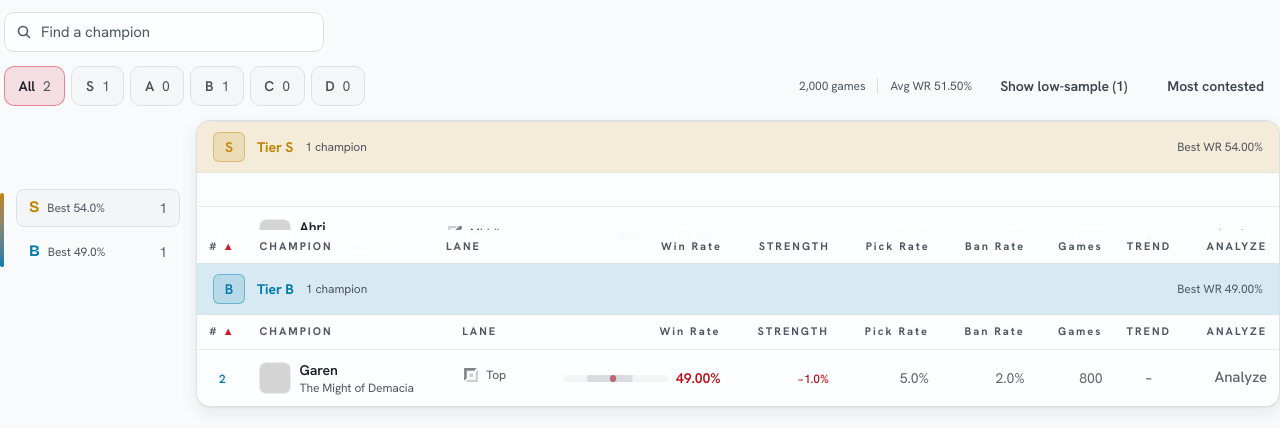
Scenario: TierListTable › filters by champion and renders a useful empty state
Expected: the text "Ahri" is shown, [300,218,325,236]
Expected: the text "Garen" is shown, [300,361,338,379]
Type "Nocturne" into the search field labelled "Find a champion".
click(164, 32); type("Nocturne")  # box [4,12,324,52]
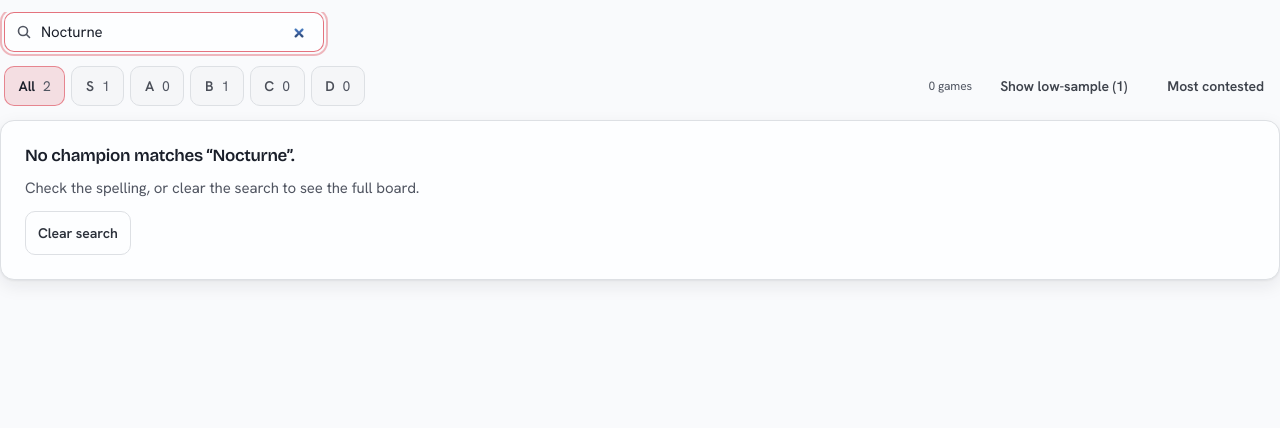
Now the text "No champion matches “Nocturne”." is shown, box [25,145,294,166]
Click the button "Clear search".
click(78, 233)  # box [25,211,131,255]
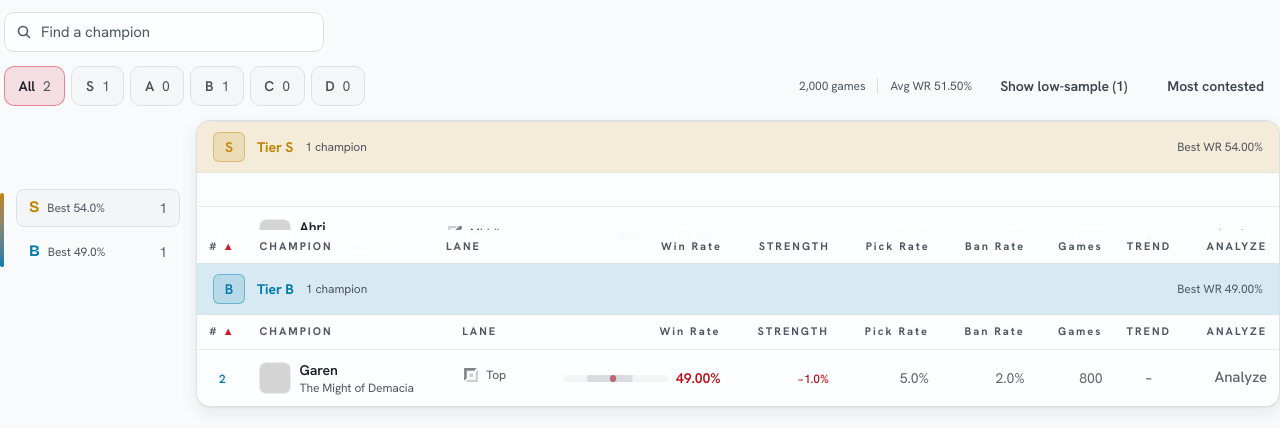
Now the text "Ahri" is shown, box [300,218,325,236]
